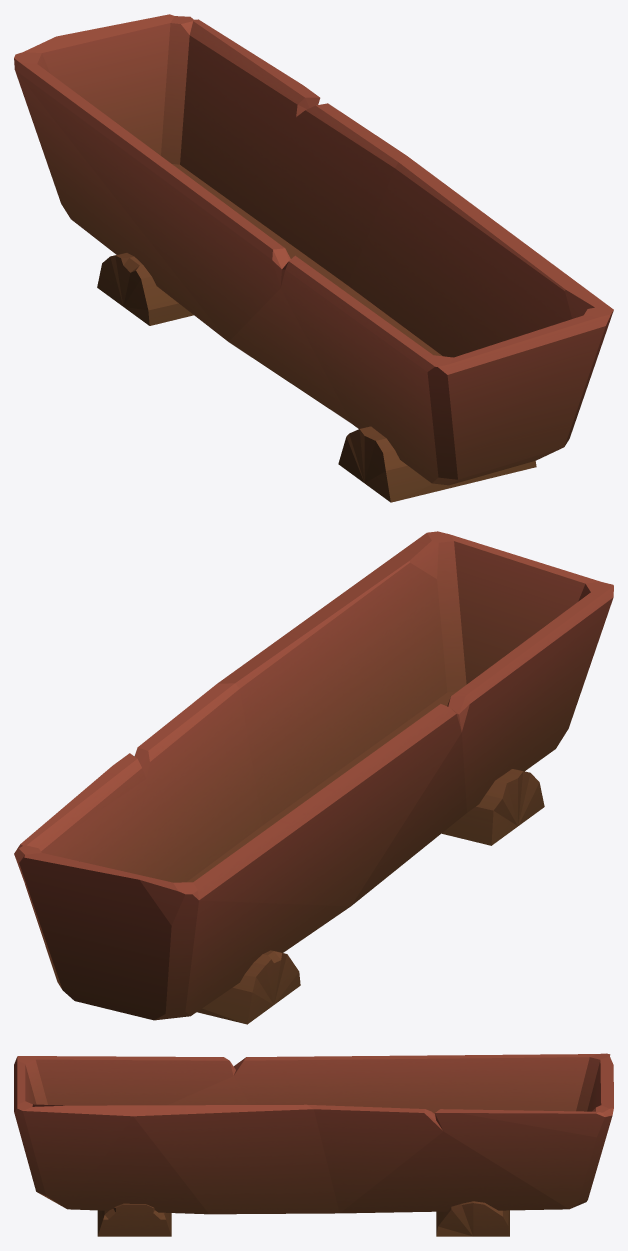
The model's file is FeedingTrough.fbx.
3 views of the same model, one above another, from view 1: azimuth 30°, elevation 25°; view 2: azimuth 150°, elevation 25°; view 3: azimuth 270°, elevation 25° (orthographic). The views are drawn at different scales.
Parts seen in each view (by area): view 1: FeedingTrough; view 2: FeedingTrough; view 3: FeedingTrough.
Part boxes in pixels (x1,y1,x2,y2): FeedingTrough: (14,14,613,502); FeedingTrough: (14,531,613,1024); FeedingTrough: (14,1053,613,1236).
Bounding box in the file's own units: 0.7412 × 0.7135 × 2.86.
1 material, 1 textured.
